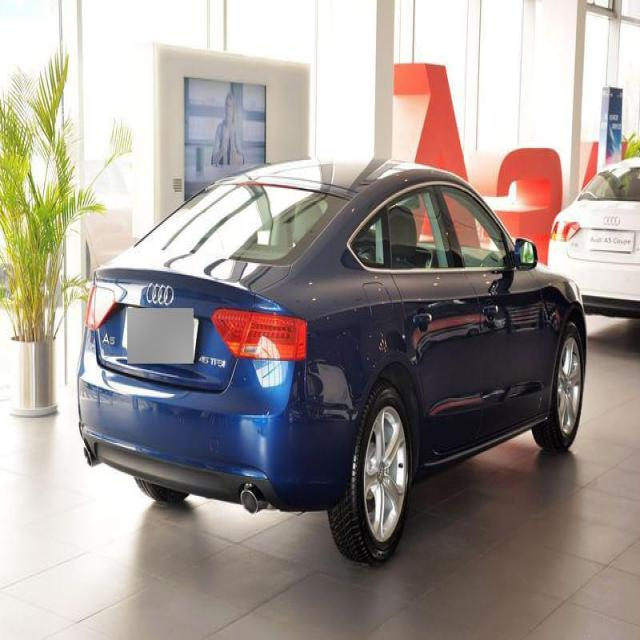back_glass: (133, 182, 351, 266)
back_left_side_light: (84, 286, 115, 330)
back_right_side_light: (210, 305, 308, 361)
door: (378, 185, 484, 452)
front_right_side_door: (434, 176, 548, 449)
front_right_side_mirror: (511, 235, 538, 272)
rear_bumper: (76, 341, 350, 512)
wheel: (326, 381, 414, 563), (531, 320, 586, 451)
